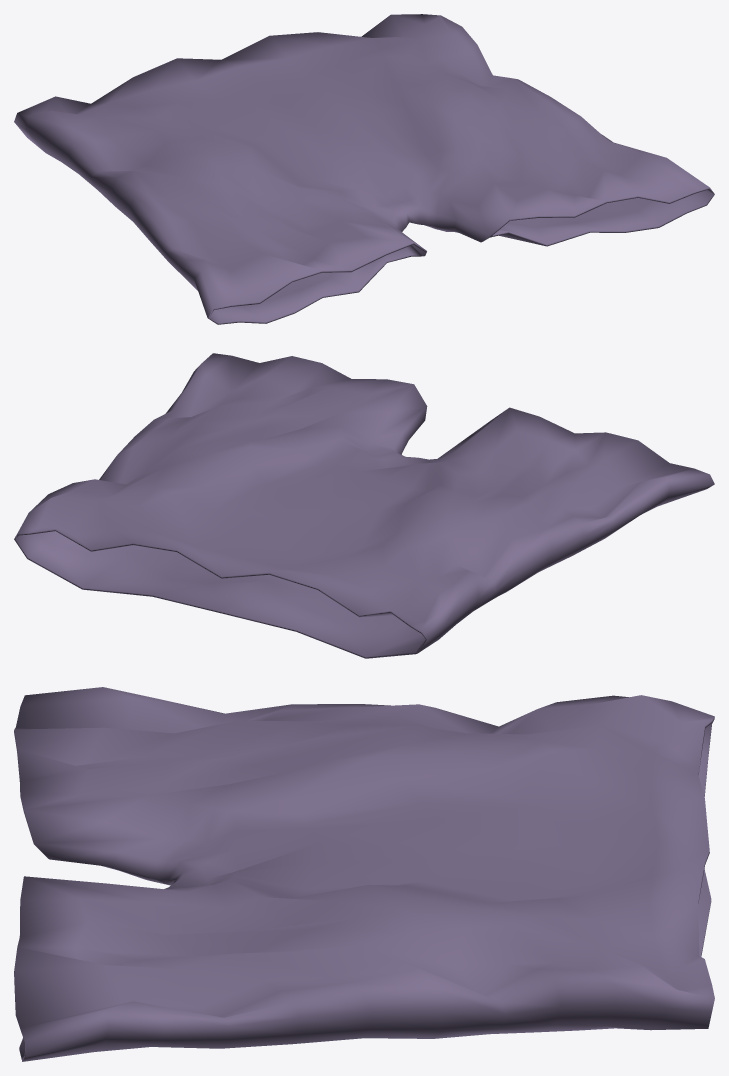
Rendered from Boxer.fbx.
3 renders of one model, top to bottom at view 1: azimuth 30°, elevation 25°; view 2: azimuth 150°, elevation 25°; view 3: azimuth 270°, elevation 25°, orthographic. The views are drawn at different scales.
Visible parts, largest first — view 1: Boxer; view 2: Boxer; view 3: Boxer.
Part boxes in pixels (x1=…): Boxer: x1=14, y1=14, x2=714, y2=324; Boxer: x1=14, y1=353, x2=714, y2=658; Boxer: x1=14, y1=687, x2=714, y2=1061.
Bounding box in the file's own units: 28.07 × 3.67 × 23.54.
